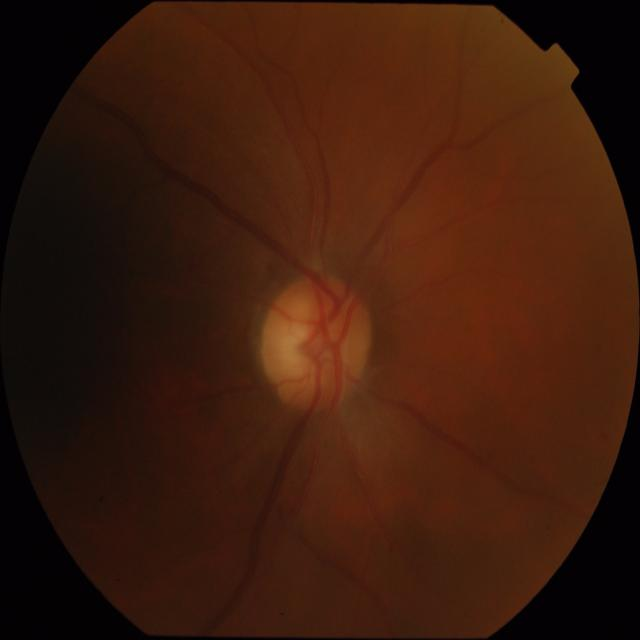OC: (272, 317, 322, 377)
OD: (260, 274, 372, 411)
